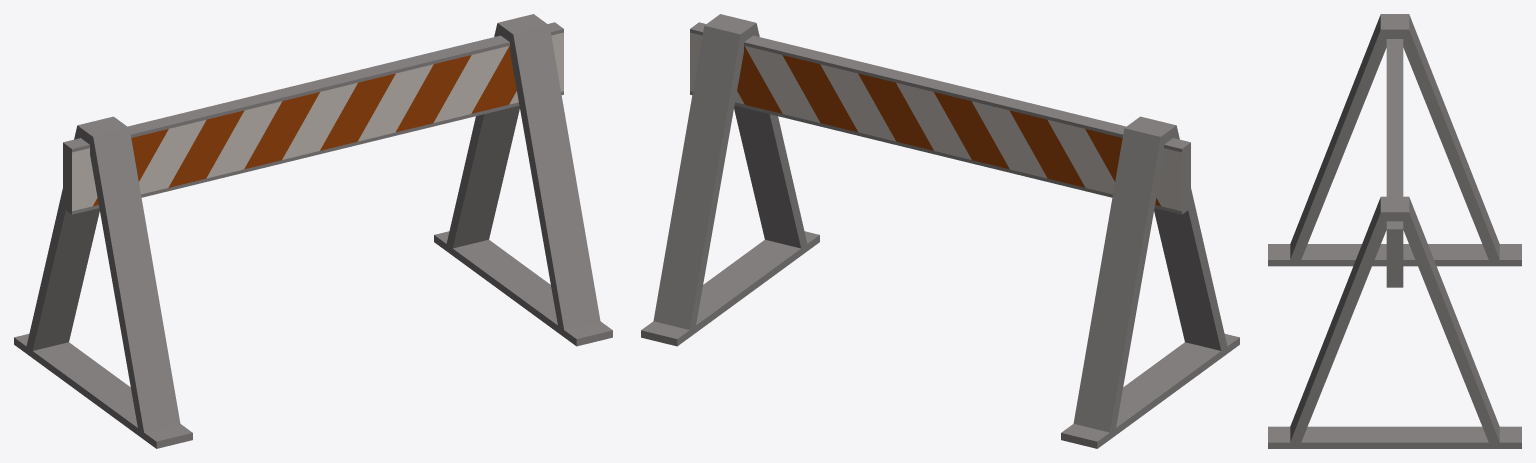
Rendered from barrier01.glb.
3 renders of one model, left to right at view 1: azimuth 30°, elevation 25°; view 2: azimuth 150°, elevation 25°; view 3: azimuth 270°, elevation 25°, orthographic. The views are drawn at different scales.
Visible parts, largest first — view 1: TrafficBarrier_2; view 2: TrafficBarrier_2; view 3: TrafficBarrier_2.
Boxes of the visible parts, x1,y1,x2,y2 form: TrafficBarrier_2: (14, 14, 612, 448); TrafficBarrier_2: (641, 14, 1239, 448); TrafficBarrier_2: (1268, 14, 1521, 448).
Size of the model in its own units: 1.56 by 0.8023 by 0.7801.
Materials: 1 (1 with a texture image).
